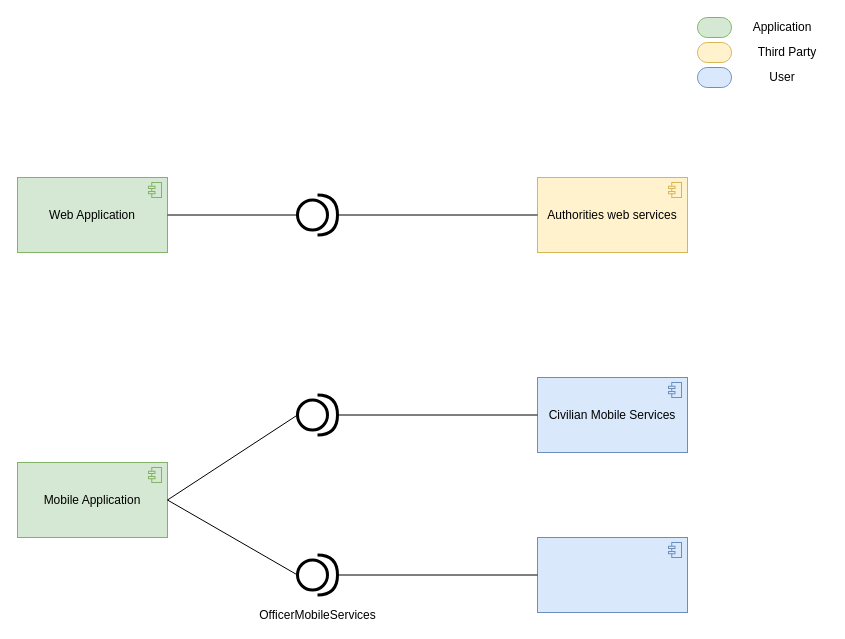
The diagram is 845 pixels wide and 639 high, and some of its shapes have lost their labels. The shapes that lost their labels are listed below. From the top down, each one's centre as x and y in pixels, then its label:
the point at 317,214: ThirdPartiesWebServices
the point at 317,414: CivilianMobileServices
the point at 612,574: Officer Mobile Services
